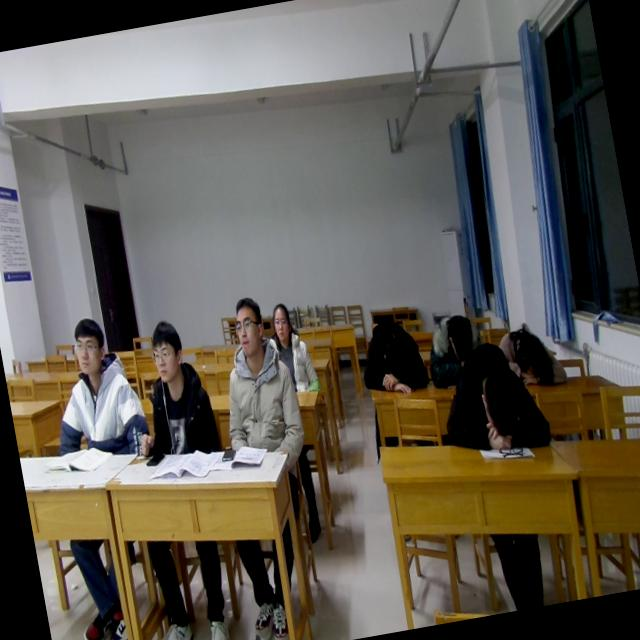bow: (431, 332, 555, 466), (352, 312, 432, 406), (420, 304, 490, 392), (496, 316, 572, 394)
lookup: (142, 314, 192, 386), (64, 308, 110, 377), (224, 292, 269, 362), (266, 300, 296, 346)
sit: (36, 309, 154, 470), (202, 291, 308, 464), (120, 316, 220, 464), (263, 299, 321, 398)
